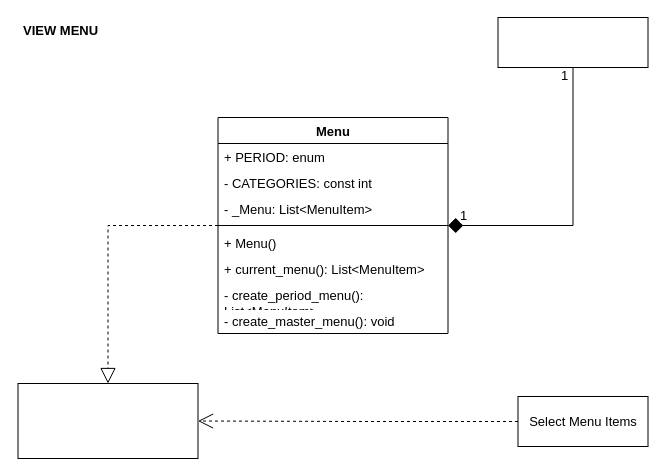
Some shapes in this 665 by 476 pixel diagram are drawn without their labels. The shapes that lost their labels are listed below. From the top down, each one's centre as x and y in pixels, then its label:
At (572,42): "Retrieve Menu Items".
At (107,420): "«interface» Customer User Interface".
